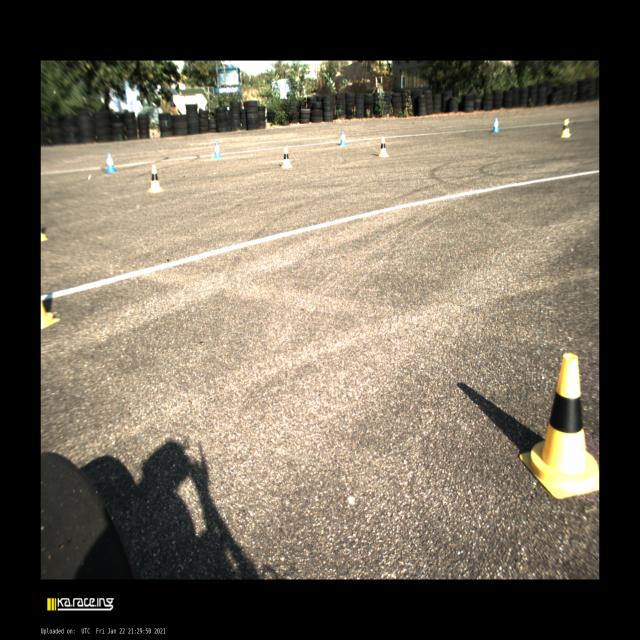blue_cone: (106, 152, 117, 172), (339, 130, 347, 146), (214, 142, 221, 158), (492, 118, 499, 132)
yellow_cone: (520, 353, 598, 498), (148, 165, 164, 193), (281, 148, 293, 168), (378, 137, 389, 157), (560, 119, 570, 137)
